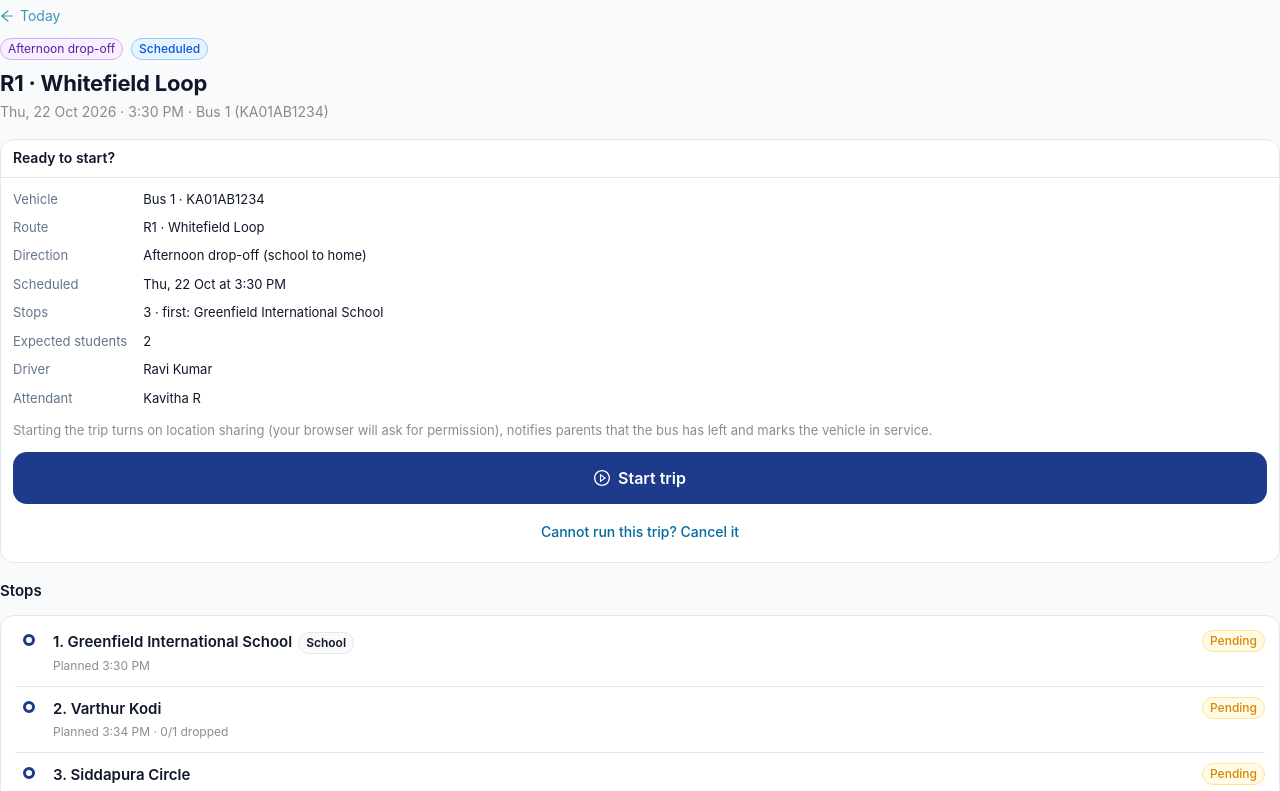
it: DriverTripPage › shows the start confirmation for a scheduled trip and starts it after confirming
This screenshot has width=1280, height=791.
Expected: the text "Ready to start?" is shown, [13,149,115,166]
Expected: the text "Bus 1 · KA01AB1234" is shown, [143,191,265,207]
Click the button "Start trip" at (640, 478), box [13,452,1267,504]
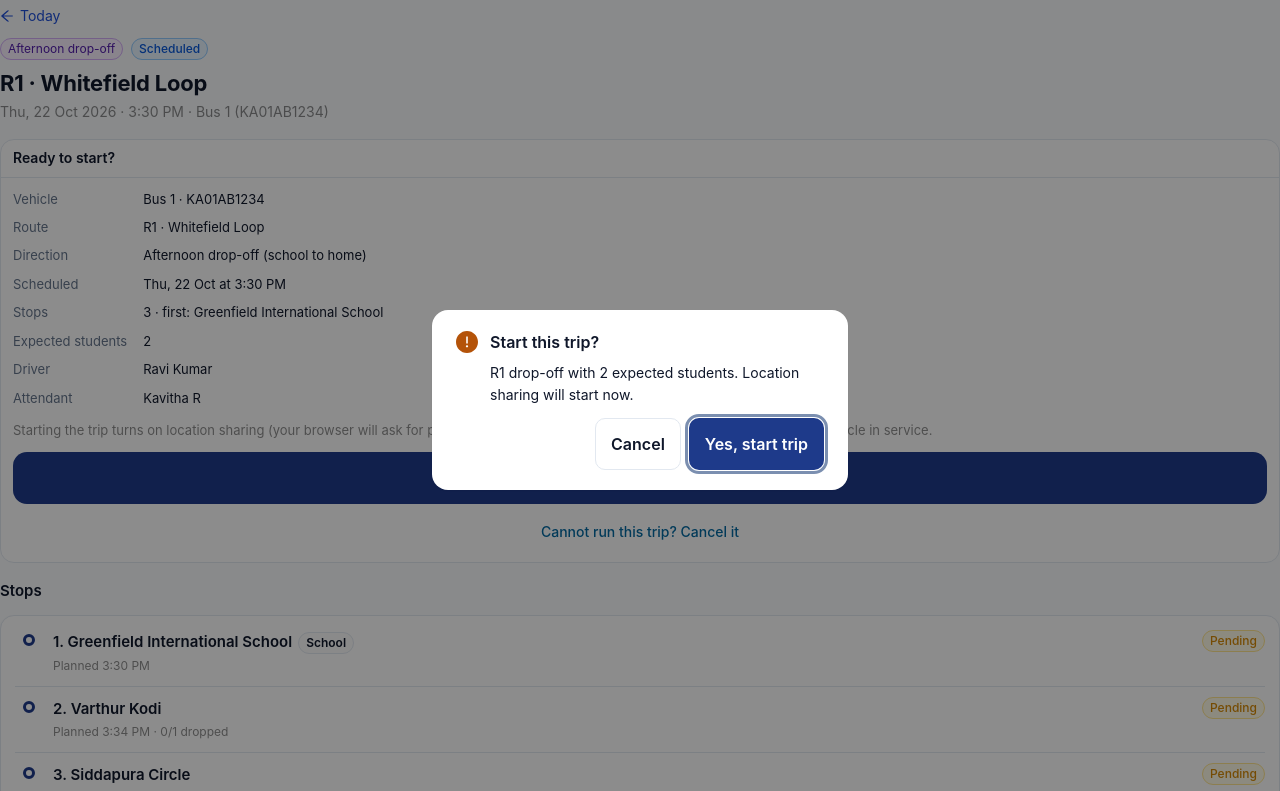
Click the button "Yes, start trip" at (756, 444), box [689,418,824,470]
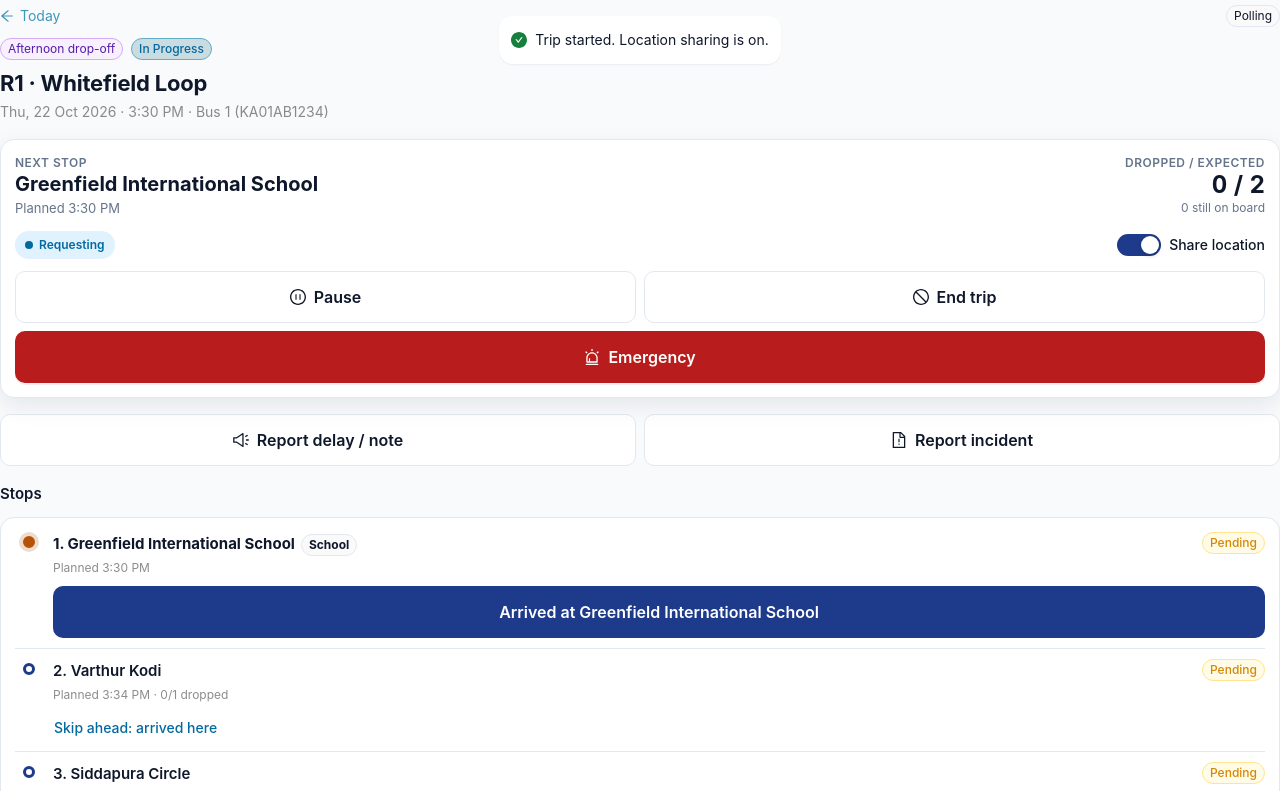
Expected: the button "End trip" is shown, [644,271,1265,323]
Expected: the element named "Trip controls" is shown, [0,139,1279,398]
